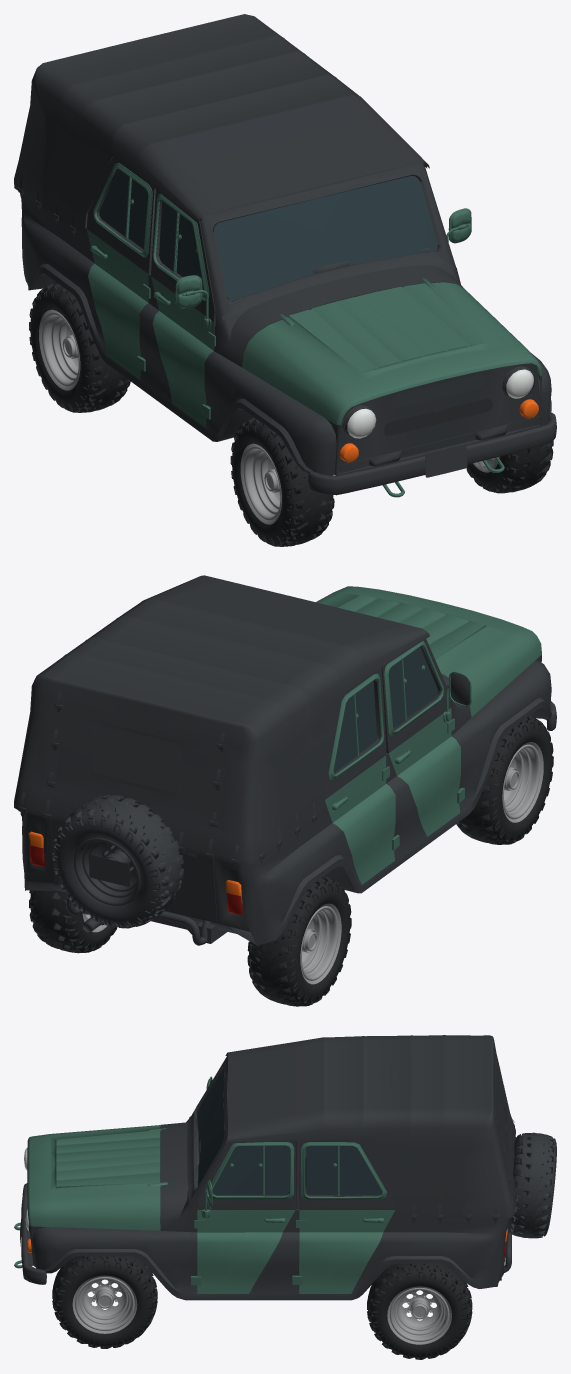
The model's file is uaz469.glb.
3 views of the same model, one above another, from view 1: azimuth 30°, elevation 25°; view 2: azimuth 150°, elevation 25°; view 3: azimuth 270°, elevation 25° (orthographic). The views are drawn at different scales.
Parts seen in each view (by area): view 1: chassis_trim, chassisbody, glass, wheel_fr, wheel_rr, interior, wheel_fl, headlights; view 2: chassis_trim, chassisbody, wheel_rr, wheel_fr, glass, interior, wheel_rl, taillights; view 3: chassis_trim, chassisbody, glass, wheel_rl, wheel_fl, interior.
Part boxes in pixels (bbox=[...]): chassis_trim: bbox=[14, 14, 556, 495]; chassisbody: bbox=[87, 163, 541, 497]; glass: bbox=[99, 169, 437, 301]; wheel_fr: bbox=[230, 417, 334, 546]; wheel_rr: bbox=[29, 282, 130, 412]; interior: bbox=[86, 157, 434, 426]; wheel_fl: bbox=[466, 422, 553, 493]; headlights: bbox=[347, 369, 533, 438]; chassis_trim: bbox=[14, 575, 556, 946]; chassisbody: bbox=[316, 586, 541, 884]; wheel_rr: bbox=[247, 875, 351, 1006]; wheel_fr: bbox=[456, 715, 553, 844]; glass: bbox=[333, 647, 437, 772]; interior: bbox=[325, 639, 451, 799]; wheel_rl: bbox=[29, 890, 117, 953]; taillights: bbox=[30, 845, 242, 914]; chassis_trim: bbox=[20, 1035, 556, 1300]; chassisbody: bbox=[14, 1076, 395, 1293]; glass: bbox=[197, 1068, 381, 1195]; wheel_rl: bbox=[367, 1263, 472, 1359]; wheel_fl: bbox=[52, 1256, 157, 1348]; interior: bbox=[197, 1114, 395, 1263].
Bounding box in the file's own units: 2.21 × 2.2 × 4.51.
